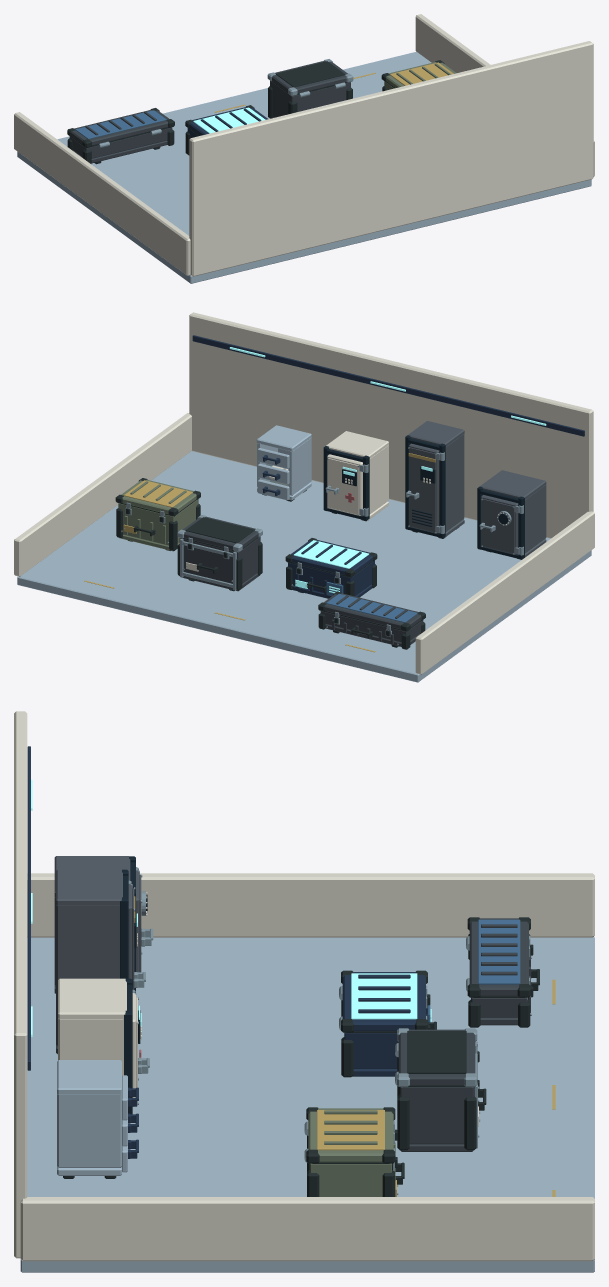
The model's file is container_supply_room.glb.
3 views of the same model, one above another, from view 1: azimuth 30°, elevation 25°; view 2: azimuth 150°, elevation 25°; view 3: azimuth 270°, elevation 25° (orthographic). The views are drawn at different scales.
Visible parts, largest first — view 1: back_wall, floor, left_cutaway_wall, right_cutaway_wall, reinforced_flight_case_moving_lid_inset, long_equipment_case_moving_lid_inset, long_equipment_case_body_back_wall, long_equipment_case_moving_lid_shell, reinforced_flight_case_body_back_wall, marine_waterproof_case_moving_lid_inset, reinforced_flight_case_moving_lid_shell, field_supply_crate_moving_lid_inset (+2 smaller); view 2: floor, back_wall, left_cutaway_wall, right_cutaway_wall, back_service_strip, secure_equipment_locker_moving_front_inset, secure_equipment_locker_body_left_wall, office_armored_safe_moving_front_inset, reinforced_flight_case_body_front_wall, cold_chain_medical_cabinet_moving_front_inset, office_armored_safe_body_roof, office_armored_safe_body_left_wall (+19 smaller); view 3: floor, right_cutaway_wall, left_cutaway_wall, back_wall, secure_equipment_locker_body_right_wall, searchable_file_cabinet_body_right_wall, reinforced_flight_case_body_right_wall, cold_chain_medical_cabinet_body_roof, cold_chain_medical_cabinet_body_right_wall, reinforced_flight_case_moving_lid_inset, marine_waterproof_case_moving_lid_inset, secure_equipment_locker_body_roof (+13 smaller).
Boxes of the visible parts, bbox=[...] form: back_wall: bbox=[189, 41, 593, 276]; floor: bbox=[17, 51, 591, 283]; left_cutaway_wall: bbox=[14, 112, 190, 275]; right_cutaway_wall: bbox=[415, 14, 594, 176]; reinforced_flight_case_moving_lid_inset: bbox=[276, 61, 345, 87]; long_equipment_case_moving_lid_inset: bbox=[75, 110, 166, 139]; long_equipment_case_body_back_wall: bbox=[85, 127, 171, 158]; long_equipment_case_moving_lid_shell: bbox=[71, 109, 169, 145]; reinforced_flight_case_body_back_wall: bbox=[290, 82, 350, 111]; marine_waterproof_case_moving_lid_inset: bbox=[193, 107, 265, 133]; reinforced_flight_case_moving_lid_shell: bbox=[272, 60, 347, 93]; field_supply_crate_moving_lid_inset: bbox=[390, 62, 453, 85]; floor: bbox=[17, 451, 591, 682]; back_wall: bbox=[189, 312, 593, 538]; left_cutaway_wall: bbox=[415, 511, 594, 674]; right_cutaway_wall: bbox=[14, 413, 191, 576]; back_service_strip: bbox=[192, 335, 584, 436]; secure_equipment_locker_moving_front_inset: bbox=[409, 447, 435, 531]; secure_equipment_locker_body_left_wall: bbox=[445, 434, 464, 531]; office_armored_safe_moving_front_inset: bbox=[481, 498, 514, 553]; reinforced_flight_case_body_front_wall: bbox=[180, 538, 240, 583]; cold_chain_medical_cabinet_moving_front_inset: bbox=[328, 458, 359, 514]; office_armored_safe_body_roof: bbox=[480, 470, 546, 499]; office_armored_safe_body_left_wall: bbox=[525, 486, 546, 553]; floor: bbox=[20, 937, 594, 1272]; right_cutaway_wall: bbox=[20, 1197, 594, 1261]; left_cutaway_wall: bbox=[27, 873, 594, 937]; back_wall: bbox=[14, 711, 27, 1258]; secure_equipment_locker_body_right_wall: bbox=[56, 905, 119, 1046]; searchable_file_cabinet_body_right_wall: bbox=[57, 1094, 121, 1167]; reinforced_flight_case_body_right_wall: bbox=[400, 1087, 473, 1144]; cold_chain_medical_cabinet_body_roof: bbox=[58, 978, 126, 1018]; cold_chain_medical_cabinet_body_right_wall: bbox=[58, 1018, 123, 1075]; reinforced_flight_case_moving_lid_inset: bbox=[407, 1031, 466, 1073]; marine_waterproof_case_moving_lid_inset: bbox=[351, 973, 417, 1019]; secure_equipment_locker_body_roof: bbox=[56, 869, 122, 905].
Bounding box in the file's own units: 8.14 × 2.76 × 6.07.
